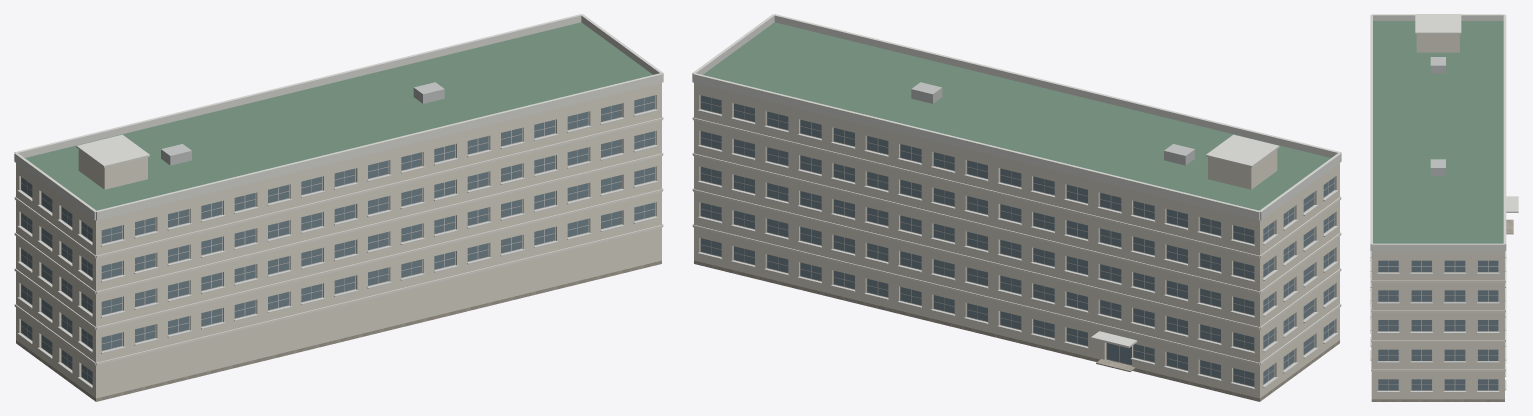
The picture shows the model from 3 angles, left to right: view 1: azimuth 30°, elevation 25°; view 2: azimuth 150°, elevation 25°; view 3: azimuth 270°, elevation 25°; orthographic projection. The views are drawn at different scales.
Parts seen in each view (by area): view 1: mg-north__ivory, mg-north__roof, mg-north__glass, mg-north__cap, mg-north__band, mg-north__frame, mg-north__sill, mg-north__stone, mg-north__plant; view 2: mg-north__ivory, mg-north__roof, mg-north__glass, mg-north__cap, mg-north__band, mg-north__frame, mg-north__sill, mg-north__stone, mg-north__plant; view 3: mg-north__roof, mg-north__ivory, mg-north__glass, mg-north__cap, mg-north__frame, mg-north__band, mg-north__sill, mg-north__plant, mg-north__stone.
Boxes of the visible parts, x1=… form: mg-north__ivory: x1=16, y1=83, x2=661, y2=398; mg-north__roof: x1=25, y1=22, x2=652, y2=210; mg-north__glass: x1=21, y1=95, x2=654, y2=384; mg-north__cap: x1=14, y1=14, x2=663, y2=220; mg-north__band: x1=14, y1=117, x2=663, y2=365; mg-north__frame: x1=21, y1=95, x2=655, y2=384; mg-north__sill: x1=17, y1=109, x2=657, y2=387; mg-north__stone: x1=16, y1=260, x2=661, y2=401; mg-north__plant: x1=161, y1=82, x2=444, y2=165; mg-north__ivory: x1=694, y1=83, x2=1339, y2=398; mg-north__roof: x1=703, y1=22, x2=1330, y2=210; mg-north__glass: x1=701, y1=95, x2=1334, y2=386; mg-north__cap: x1=692, y1=14, x2=1341, y2=348; mg-north__band: x1=692, y1=117, x2=1341, y2=365; mg-north__frame: x1=700, y1=95, x2=1334, y2=386; mg-north__sill: x1=698, y1=109, x2=1338, y2=389; mg-north__stone: x1=694, y1=260, x2=1339, y2=401; mg-north__plant: x1=911, y1=82, x2=1194, y2=165; mg-north__roof: x1=1373, y1=21, x2=1503, y2=243; mg-north__ivory: x1=1371, y1=34, x2=1504, y2=399; mg-north__glass: x1=1378, y1=260, x2=1498, y2=390; mg-north__cap: x1=1370, y1=14, x2=1518, y2=251; mg-north__frame: x1=1377, y1=260, x2=1498, y2=390; mg-north__band: x1=1371, y1=258, x2=1505, y2=371; mg-north__sill: x1=1370, y1=251, x2=1506, y2=392; mg-north__plant: x1=1430, y1=57, x2=1445, y2=175; mg-north__stone: x1=1371, y1=399, x2=1504, y2=401.
Bounding box in the file's own units: 63.06 × 22.05 × 17.18.
Materials: 10 (1 with a texture image).
